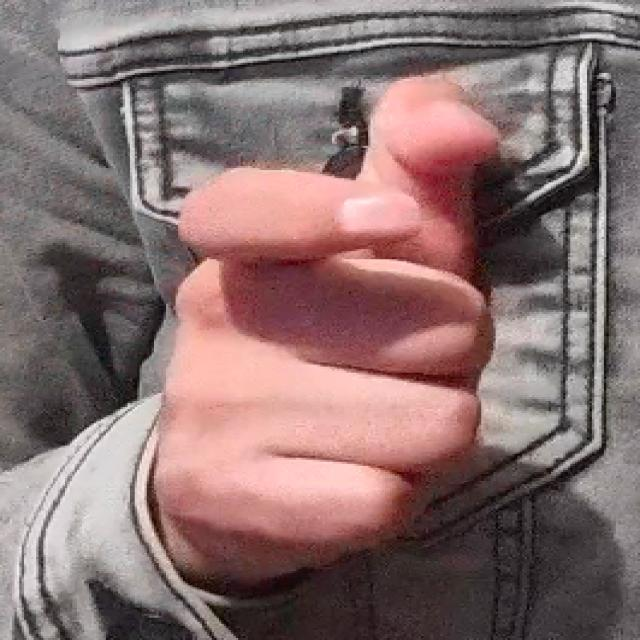Q: (128, 66, 554, 586)
